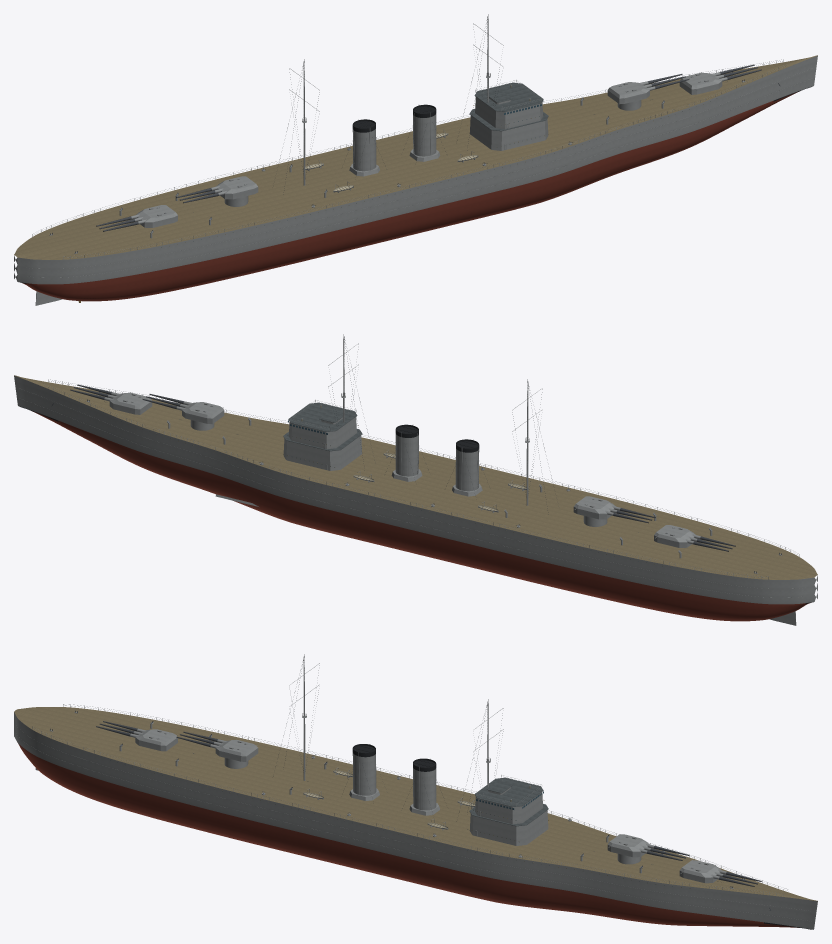
The model's file is ocean_bb34.glb.
3 views of the same model, one above another, from view 1: azimuth 30°, elevation 25°; view 2: azimuth 150°, elevation 25°; view 3: azimuth 330°, elevation 25° (orthographic).
Parts seen in each view (by area): view 1: Sovetsky Soyuz battleship; view 2: Sovetsky Soyuz battleship; view 3: Sovetsky Soyuz battleship.
Boxes of the visible parts, bbox=[...] form: Sovetsky Soyuz battleship: bbox=[14, 14, 817, 305]; Sovetsky Soyuz battleship: bbox=[14, 334, 817, 625]; Sovetsky Soyuz battleship: bbox=[14, 654, 817, 929].
Bounding box in the file's own units: 272 × 59.56 × 34.09.
Materials: 9 (8 with a texture image).
